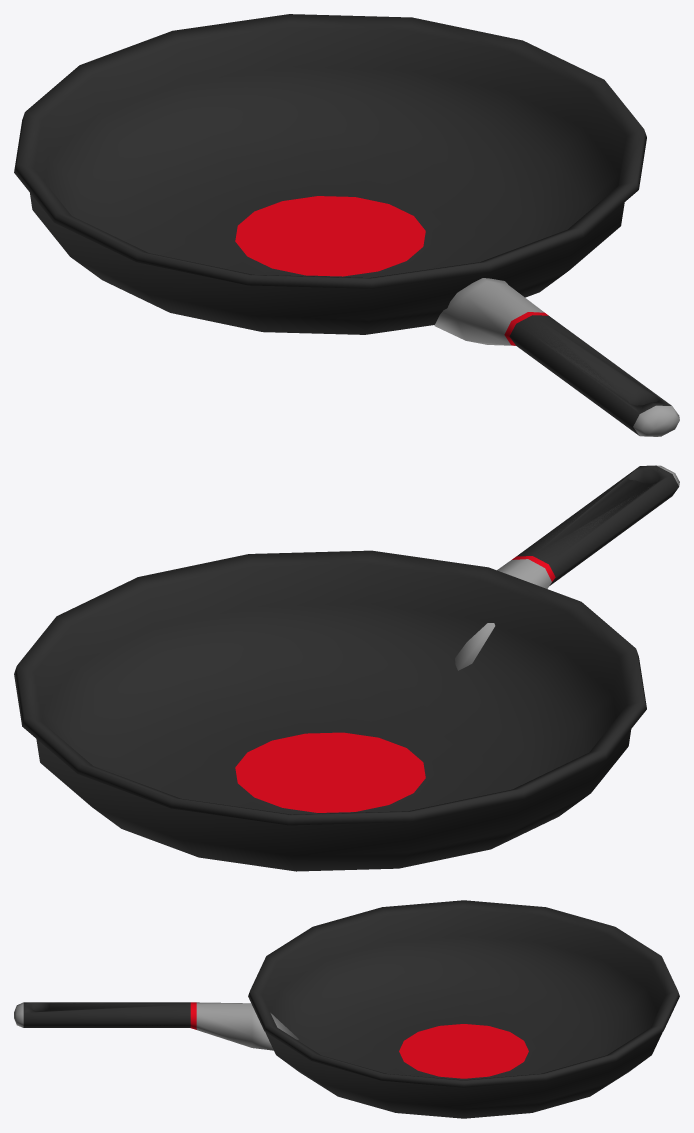
The model's file is FryingPan.fbx.
3 views of the same model, one above another, from view 1: azimuth 30°, elevation 25°; view 2: azimuth 150°, elevation 25°; view 3: azimuth 270°, elevation 25° (orthographic). The views are drawn at different scales.
Parts seen in each view (by area): view 1: FryingPan; view 2: FryingPan; view 3: FryingPan.
Boxes of the visible parts, bbox=[...] form: FryingPan: bbox=[14, 14, 679, 436]; FryingPan: bbox=[14, 465, 679, 871]; FryingPan: bbox=[14, 900, 679, 1118].
Bounding box in the file's own units: 65.38 × 11.12 × 101.
